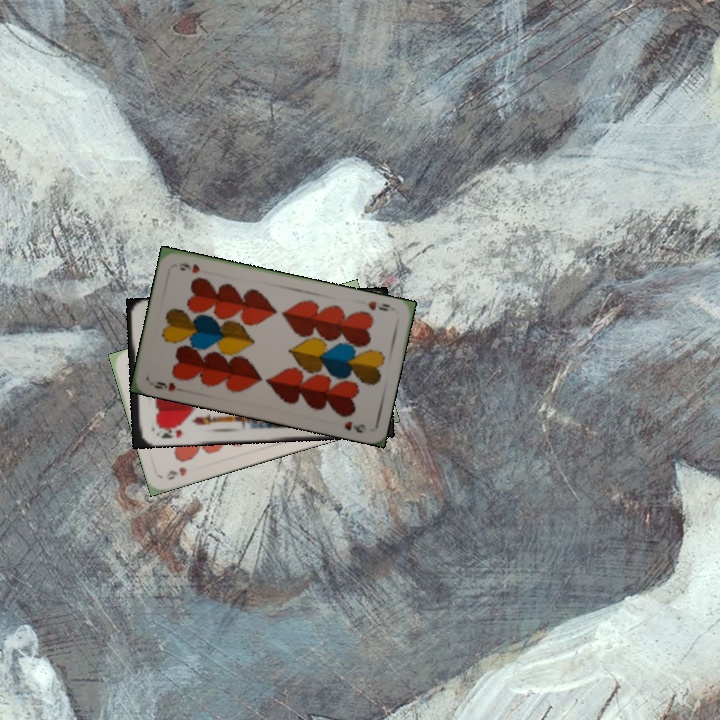H9: (162, 463, 189, 483), (364, 297, 393, 314), (150, 377, 178, 394)
HK: (152, 421, 185, 441)
